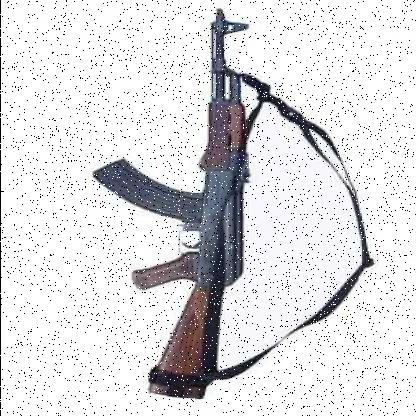rifle: (78, 11, 261, 409)
